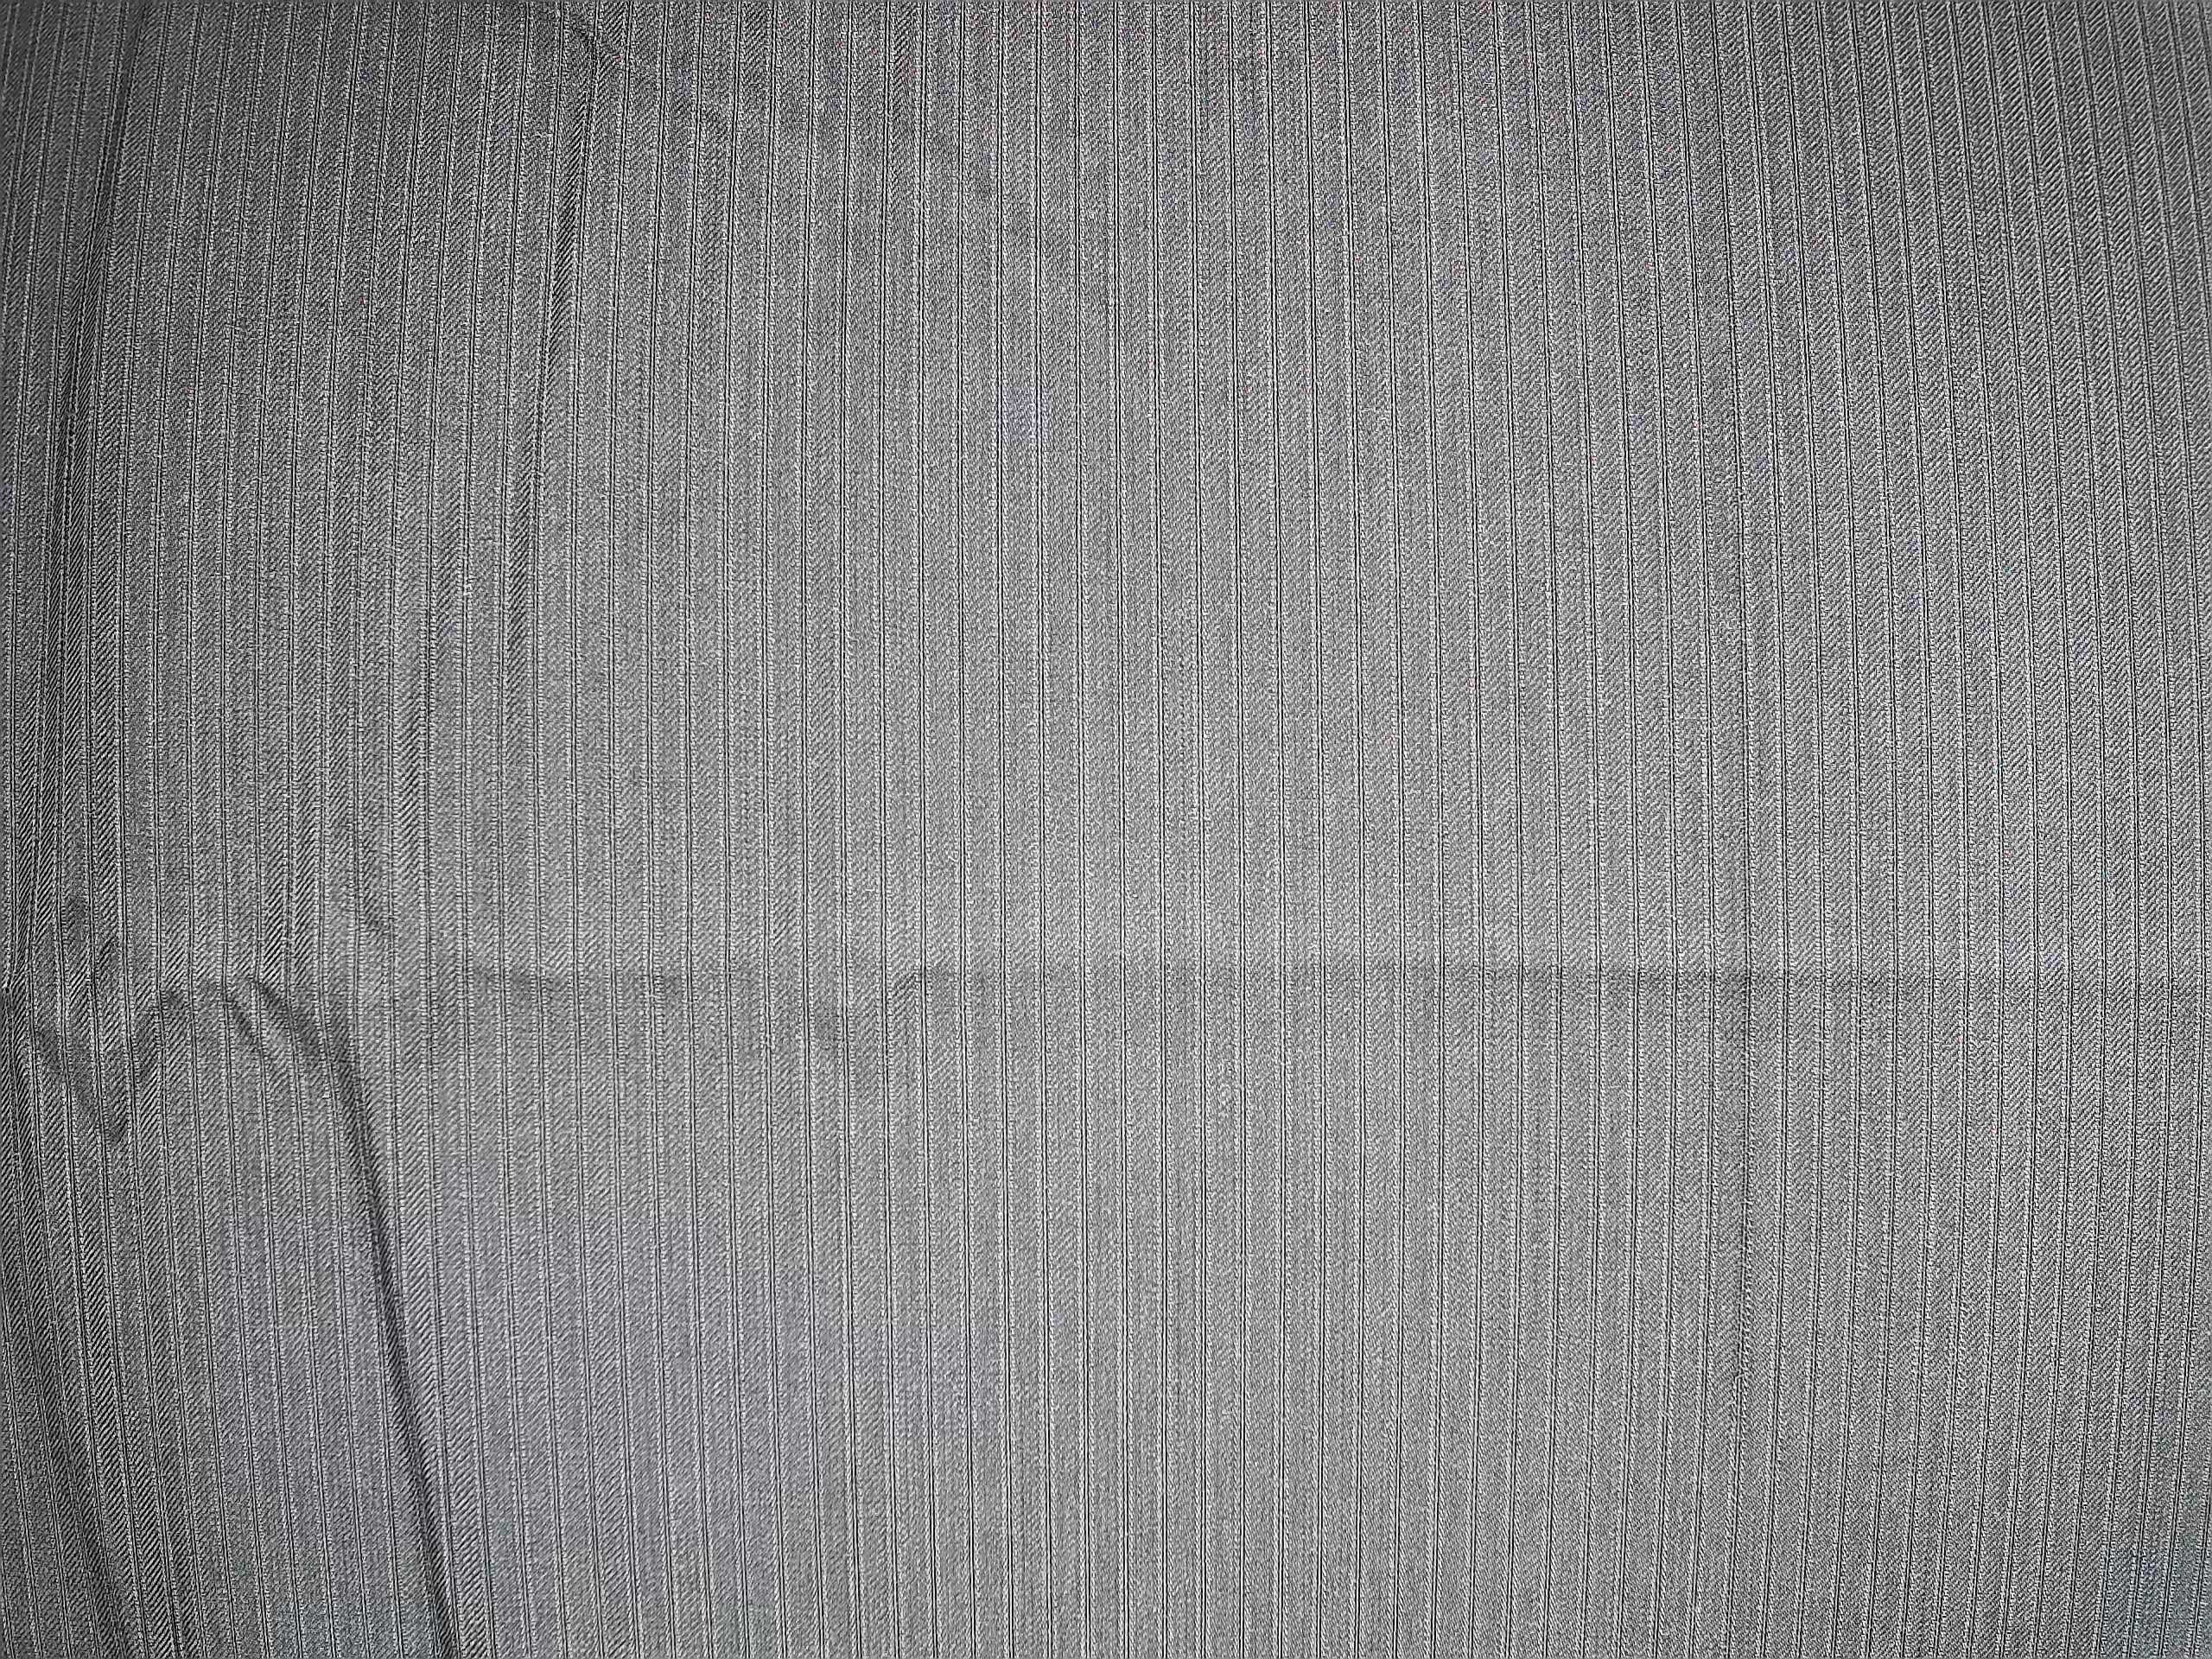lacking-warp: (1703, 484, 1770, 1561)
